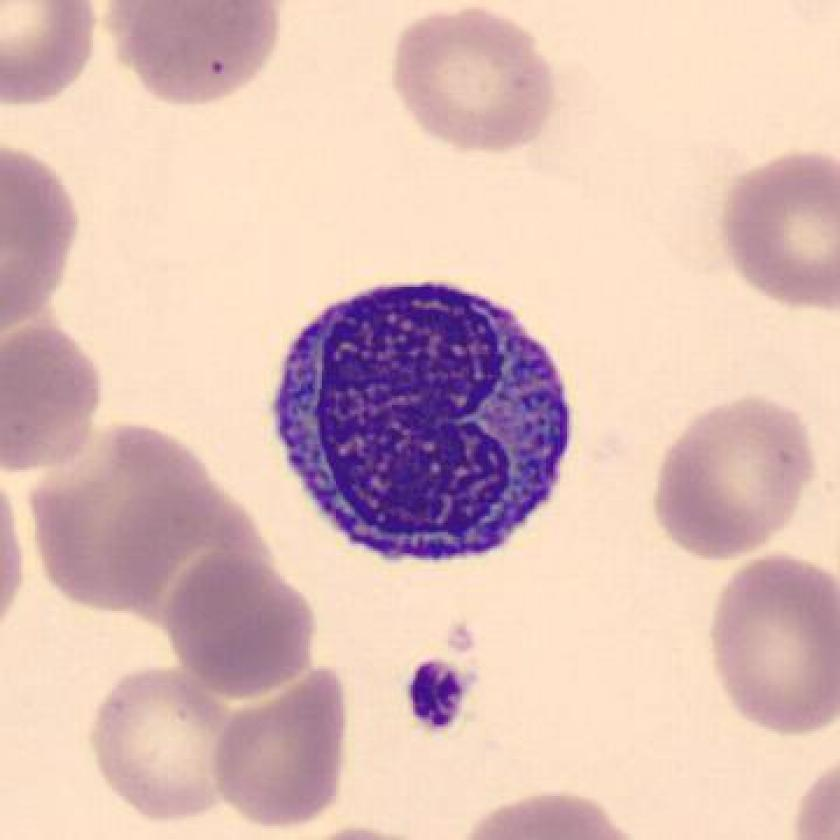monocyte: (263, 262, 606, 589)
